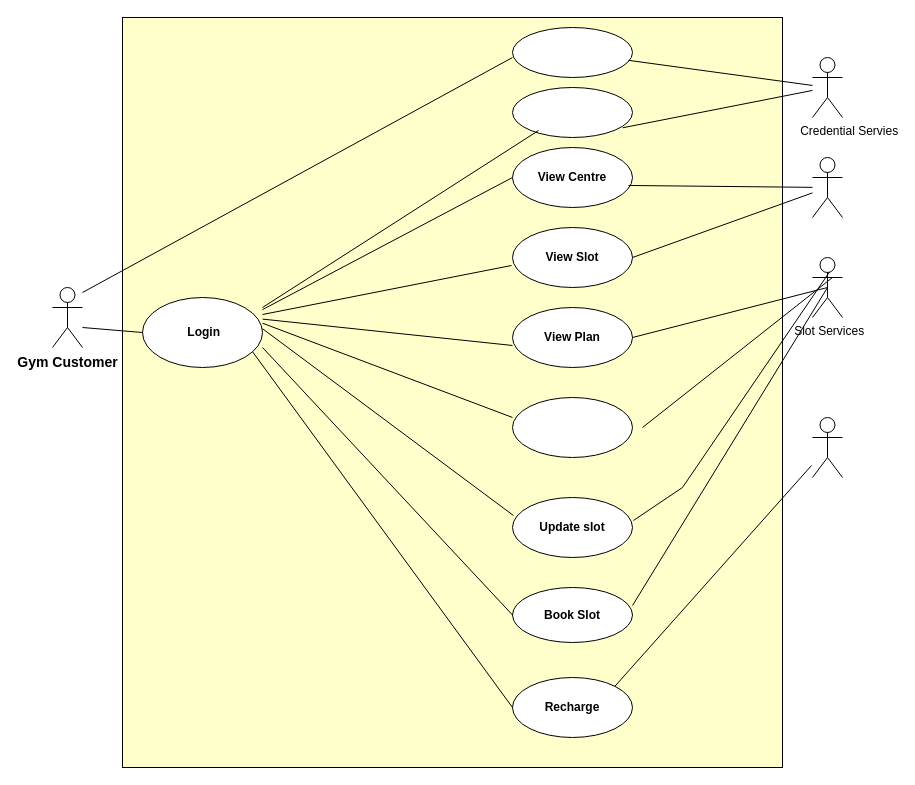
Some shapes in this 915 by 785 pixel diagram are drawn without their labels. The box of each missing label's shape, as (x1, y1, x2, y2) in pixels:
Cancel Slot: (512, 396, 632, 458)
Create Profile: (512, 26, 632, 78)
Edit Profile: (512, 86, 632, 138)
Gym Services: (812, 156, 842, 218)
Payment Gateway Service: (812, 416, 842, 478)
